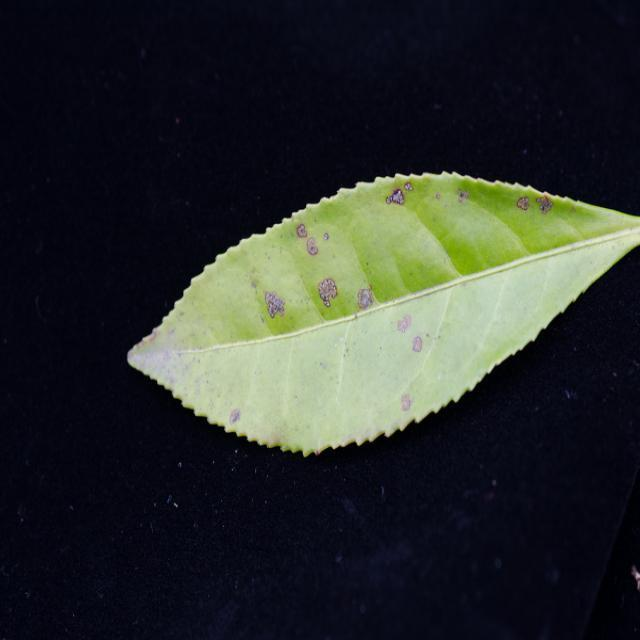Tea red rust: (182, 175, 584, 454)
